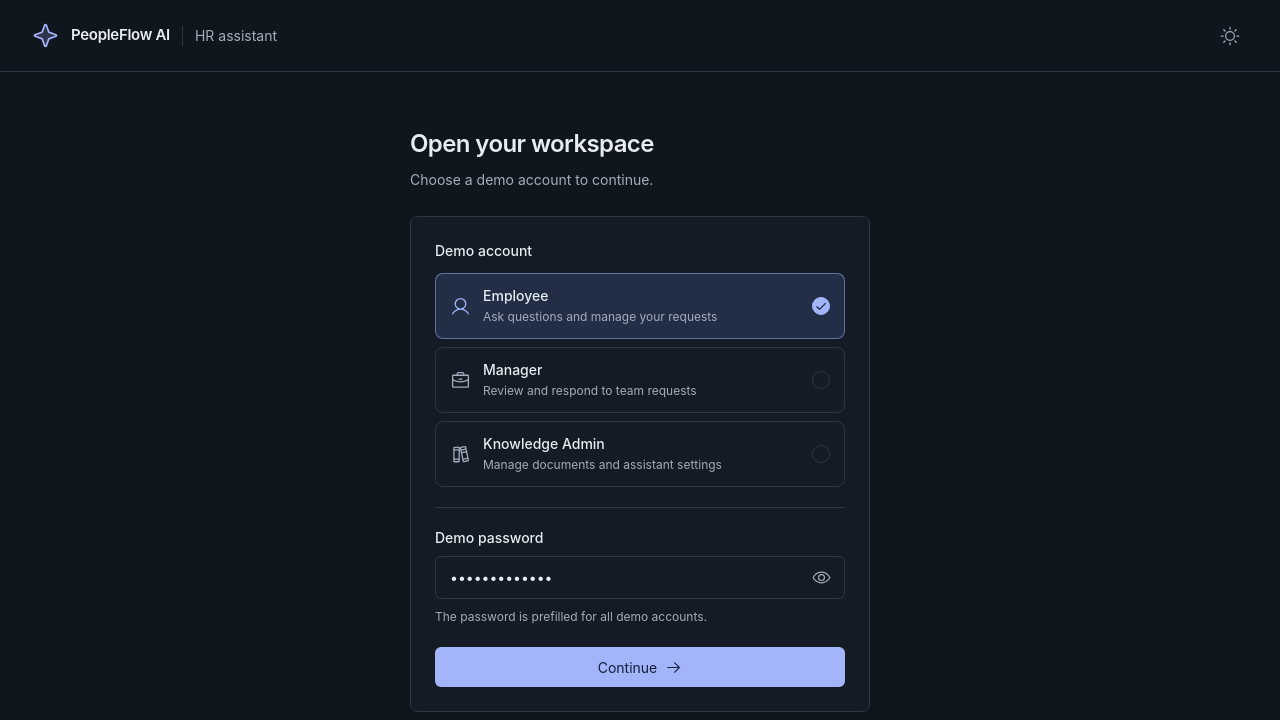
PeopleFlow application shell › lets users choose a demo account and reveal their password without changing it
Click the button "Manager Review and respond to team requests": (640, 380) 435,347 -> 845,413
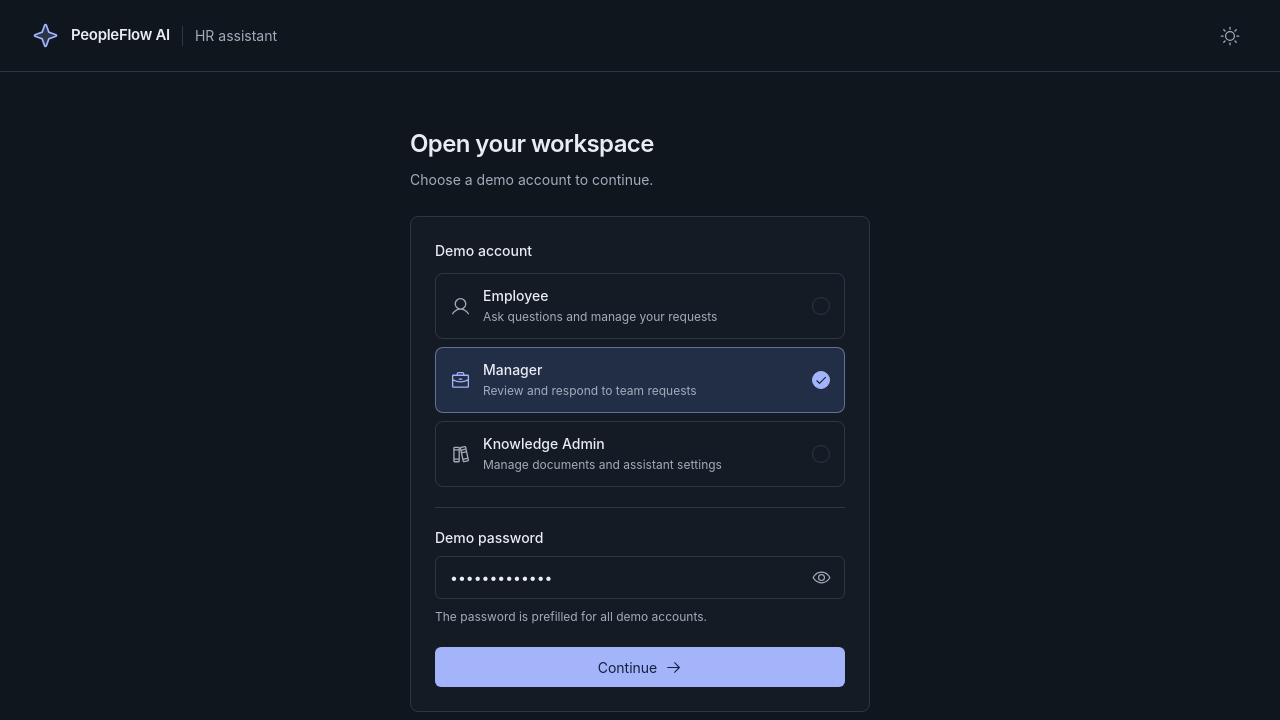
Expected: the button "Manager Review and respond to team requests" is pressed, 435,347 -> 845,413
Expected: the button "Employee Ask questions and manage your requests" is not pressed, 435,273 -> 845,339
In the password field labelled "Demo password": (640, 578) 435,556 -> 845,599, type "my-demo-password"
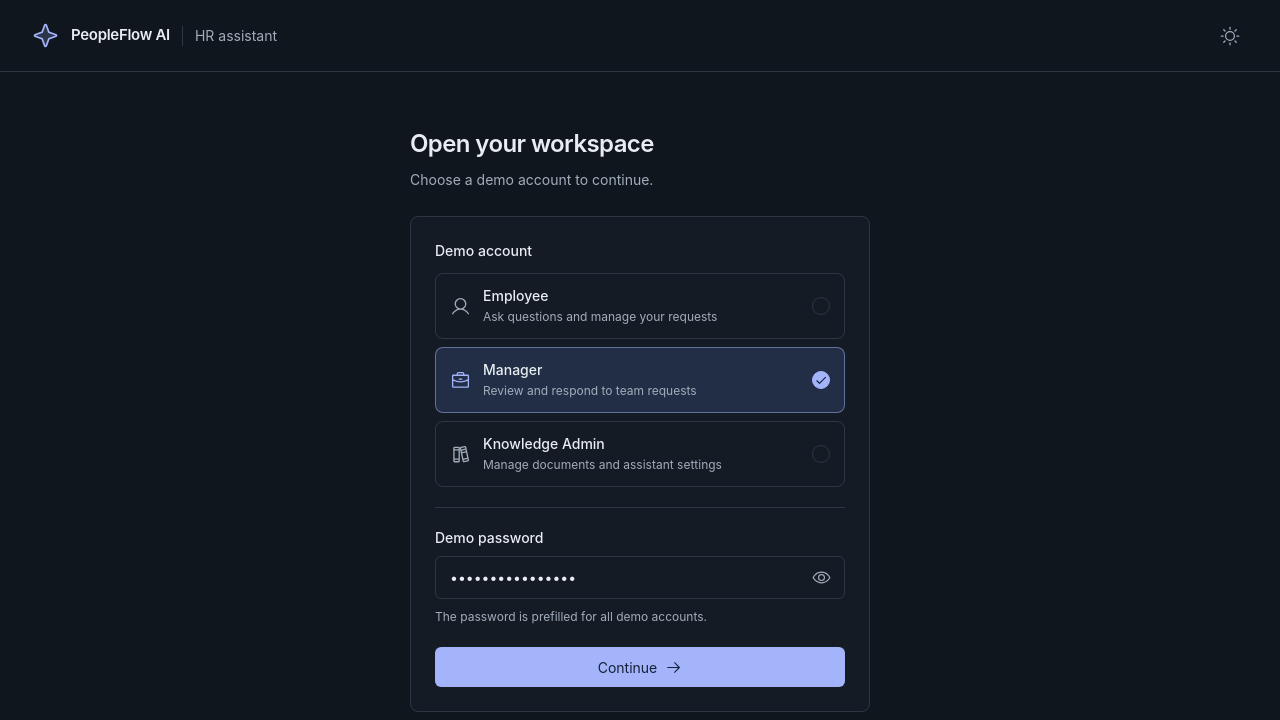
Click the button named "Show password": (821, 578) 801,560 -> 841,595
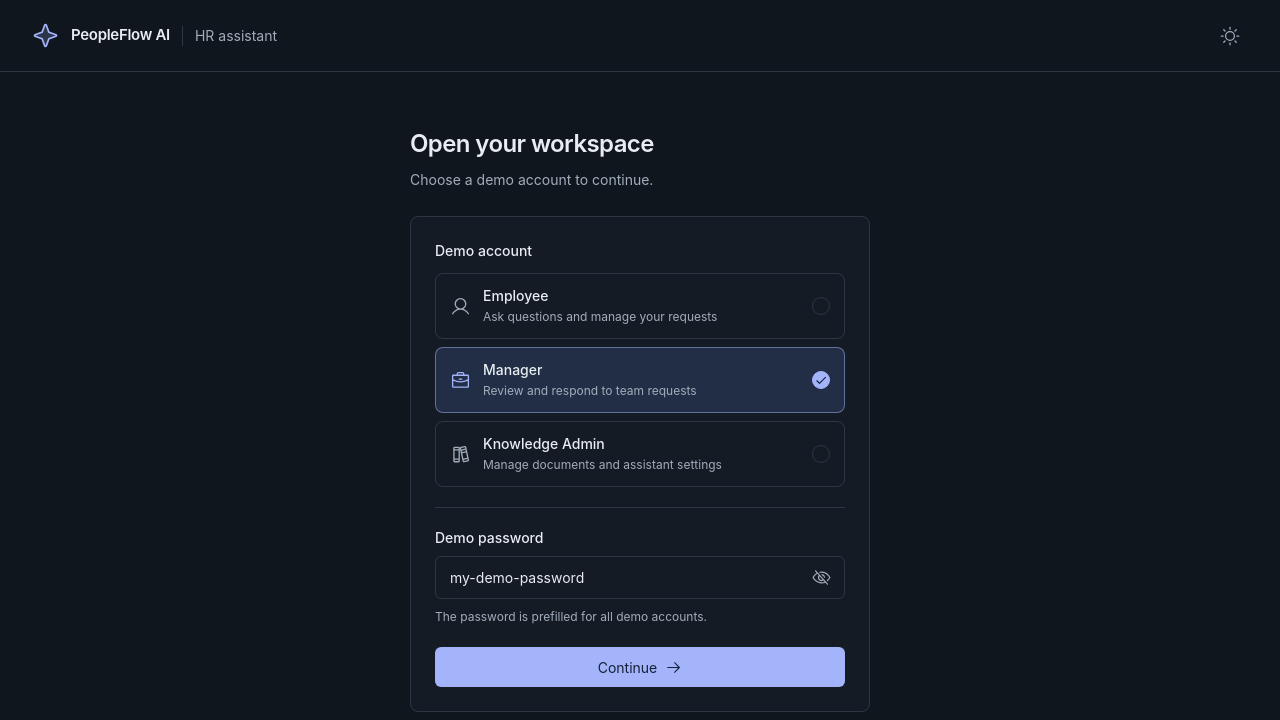
Expected: the field labelled "Demo password" shows its text, 435,556 -> 845,599
Click the button named "Hide password": (821, 578) 801,560 -> 841,595
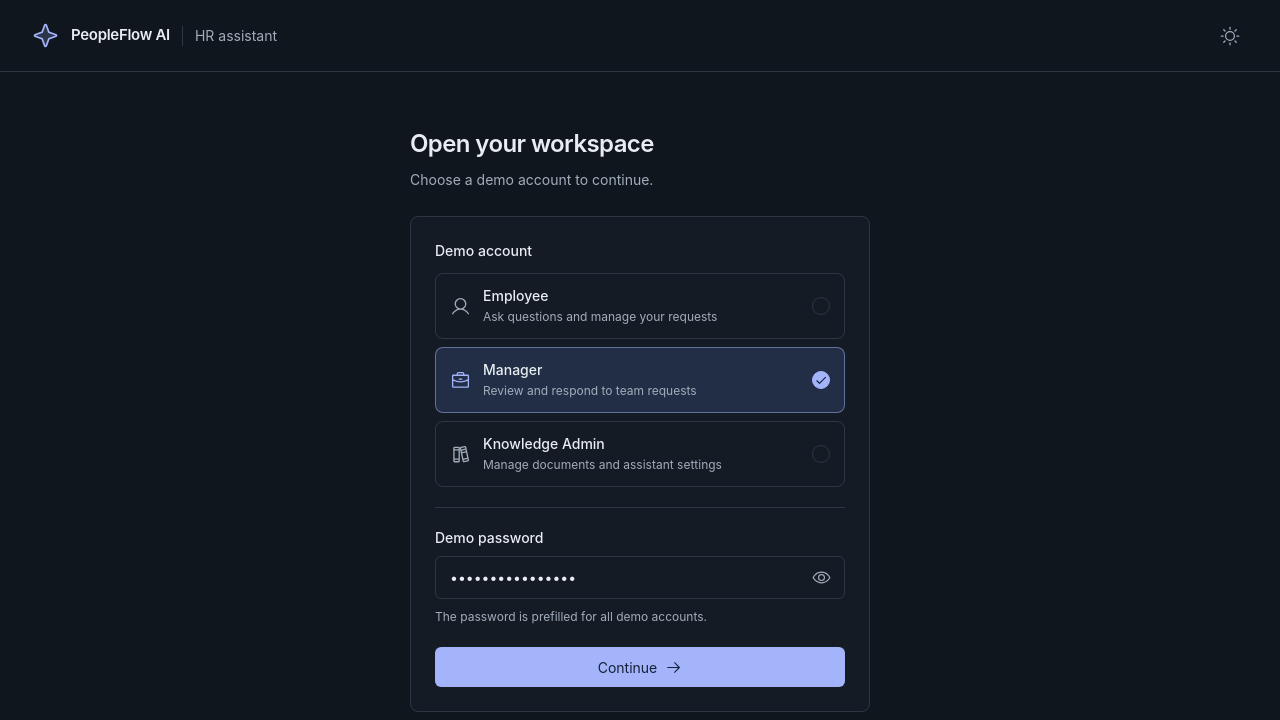
Expected: the password field labelled "Demo password" hides its text, 435,556 -> 845,599
